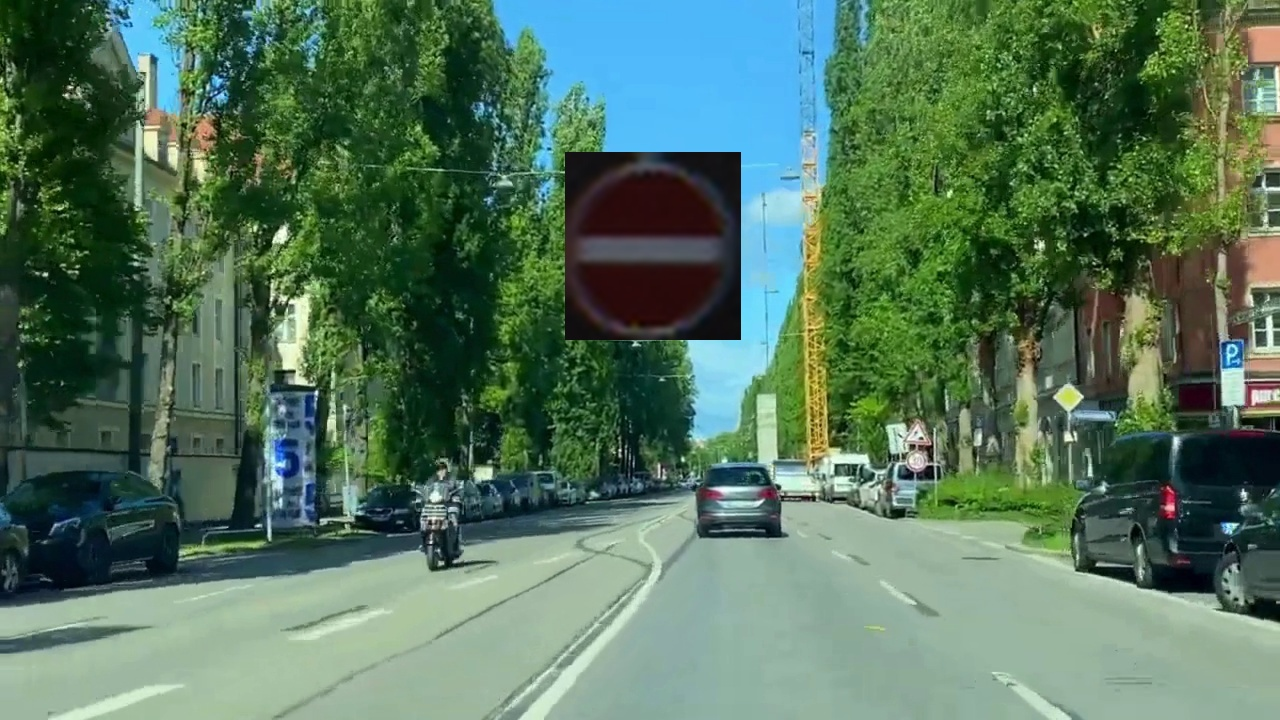No entry: (565, 152, 741, 340)
